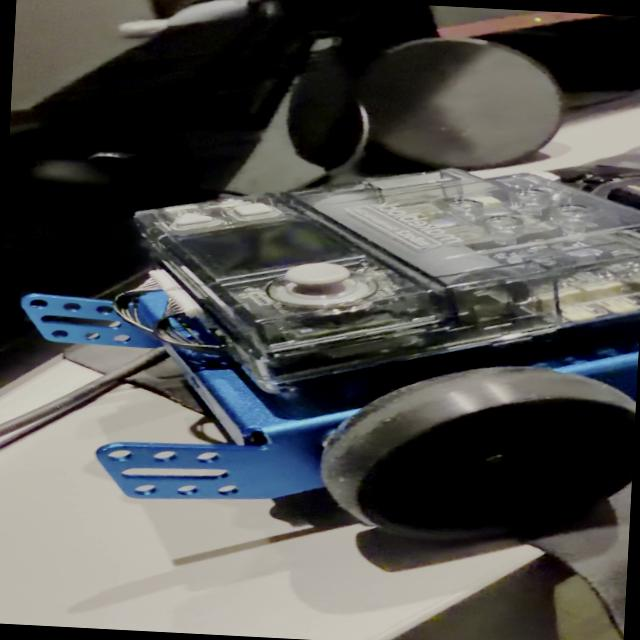mbot-detection: (1, 136, 640, 556)
